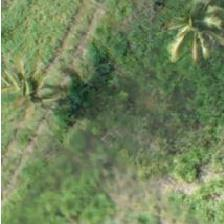coconut_tree: (142, 0, 223, 81), (0, 44, 72, 134)
